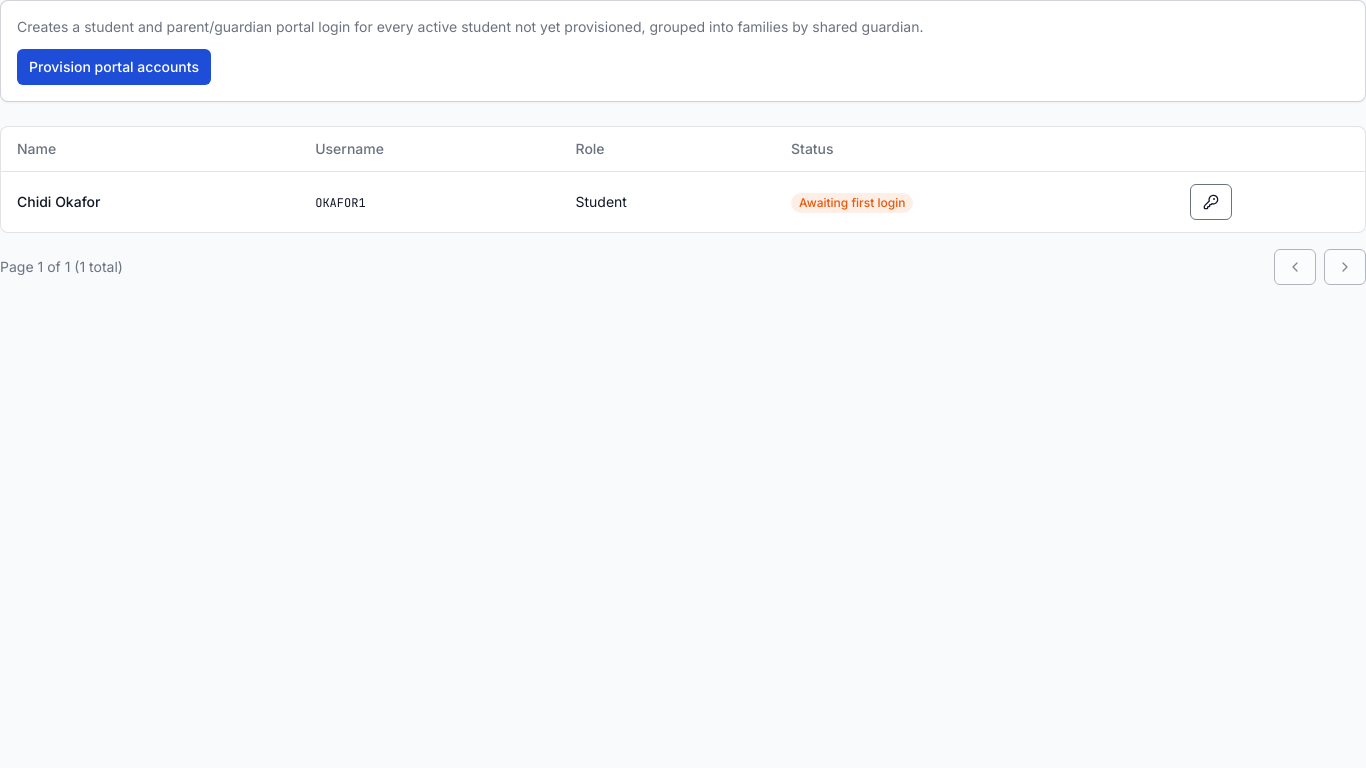
Test: PortalAccountsSettingsPage › reset & print generates a fresh temp password and shows a printable slip
Click the button named "Reset & print for Chidi Okafor" at (1211, 202), box top-left (1190, 184), bottom-right (1232, 220)
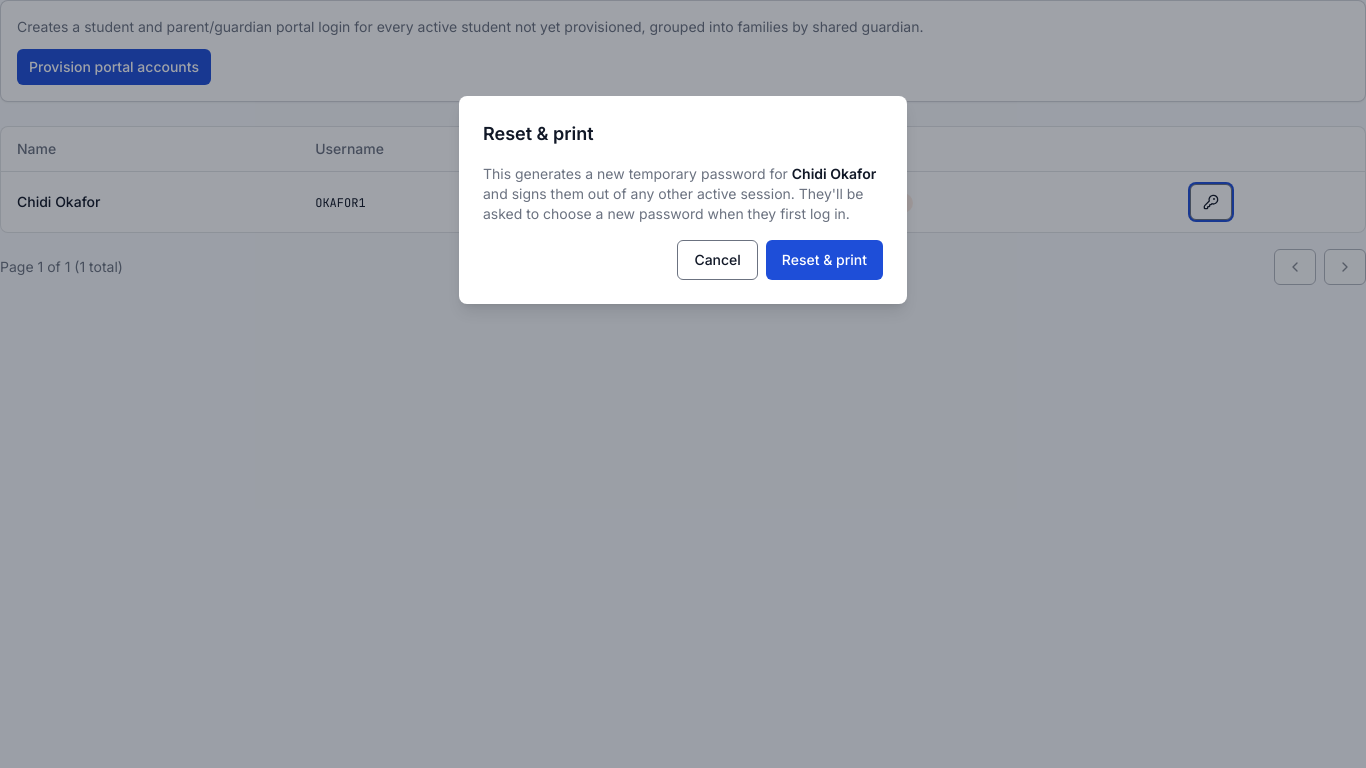
Click the button "Reset & print" at (824, 260), box top-left (766, 240), bottom-right (883, 280)
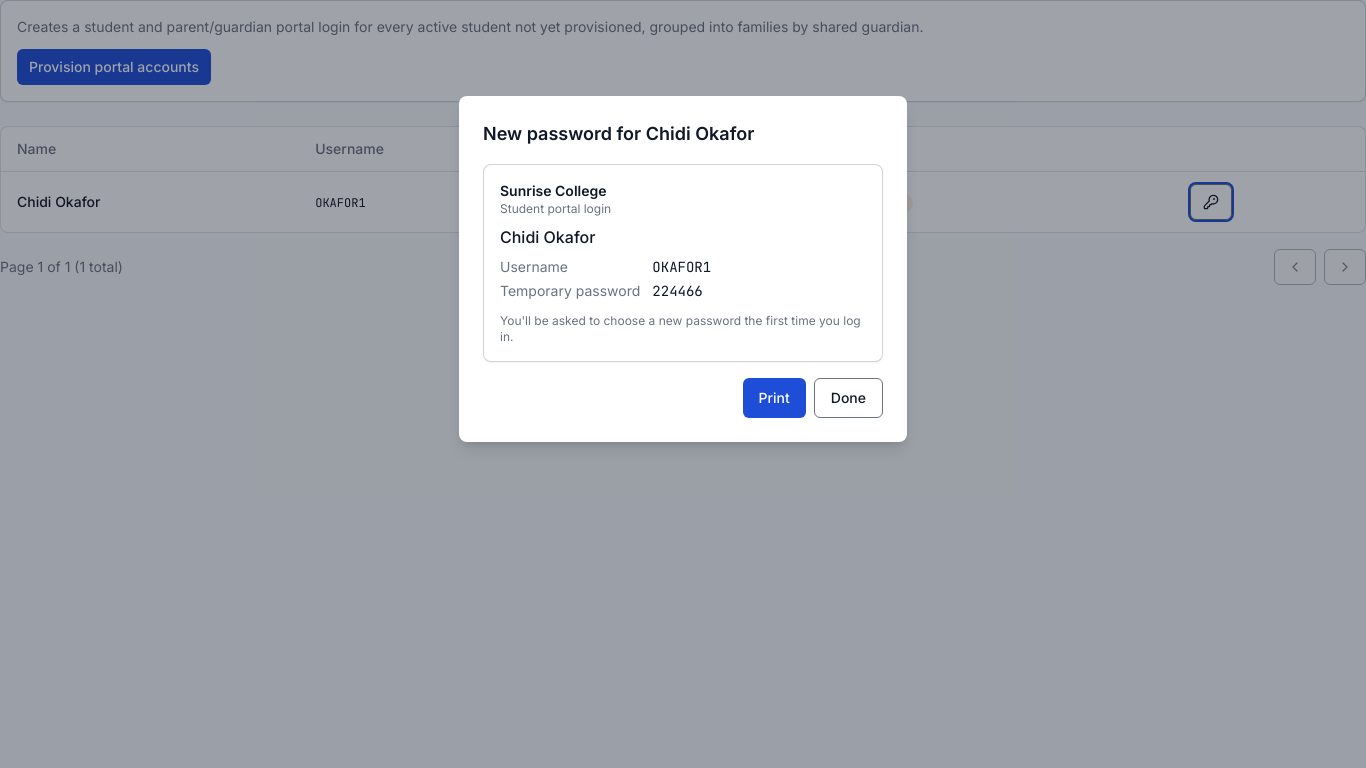
Check: the text "224466" is shown, box top-left (652, 282), bottom-right (703, 300)
